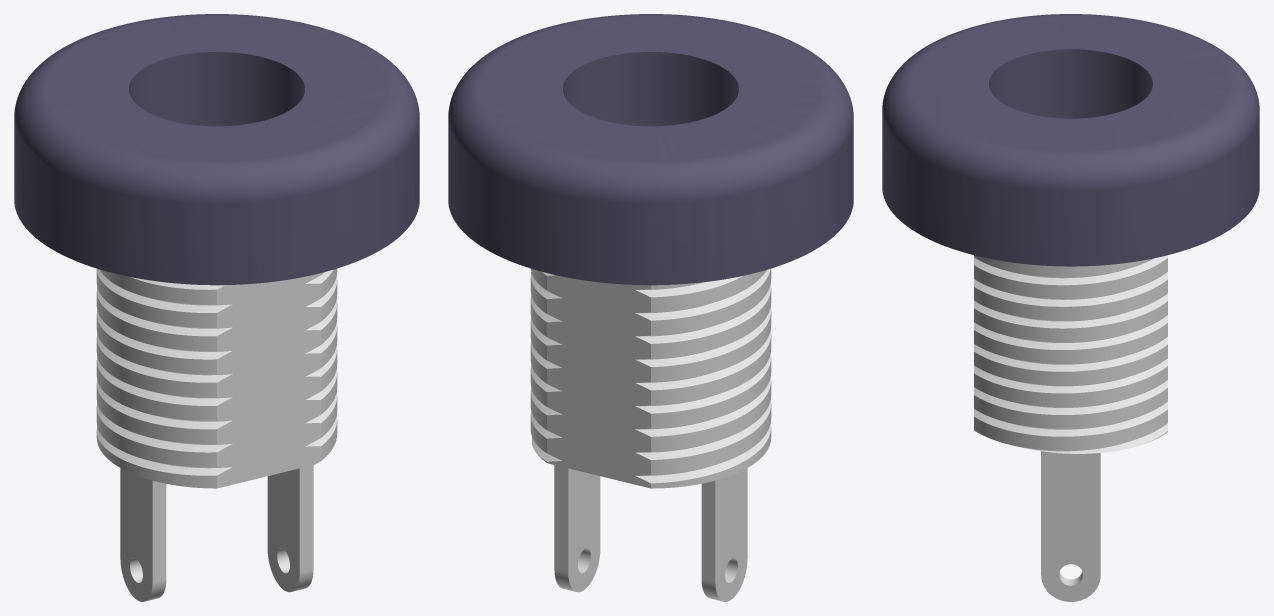
File: Main_Socket_5V.dae
3 renders of one model, left to right at view 1: azimuth 30°, elevation 25°; view 2: azimuth 150°, elevation 25°; view 3: azimuth 270°, elevation 25°, orthographic. The views are drawn at different scales.
Visible parts, largest first — view 1: Main_Socket_5V; view 2: Main_Socket_5V; view 3: Main_Socket_5V.
Boxes of the visible parts, <box> form: Main_Socket_5V: <box>14,14,419,601</box>; Main_Socket_5V: <box>448,14,853,601</box>; Main_Socket_5V: <box>882,14,1259,601</box>.
Bounding box in the file's own units: 0.0127 × 0.0127 × 0.0178.
